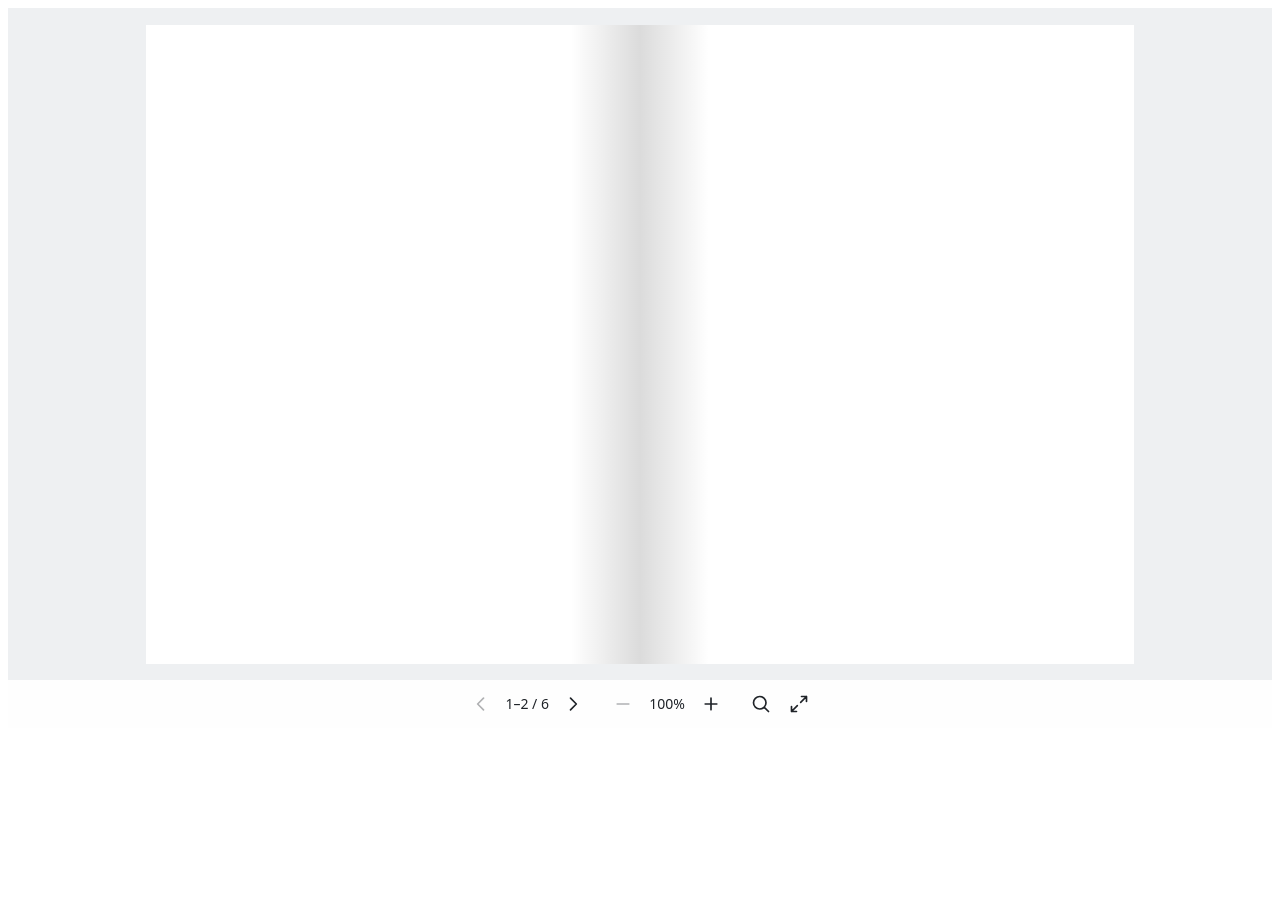
Test: search › matches without regard to case or extra whitespace
Click the button named "Search" at (761, 704), box [743, 686, 779, 722]
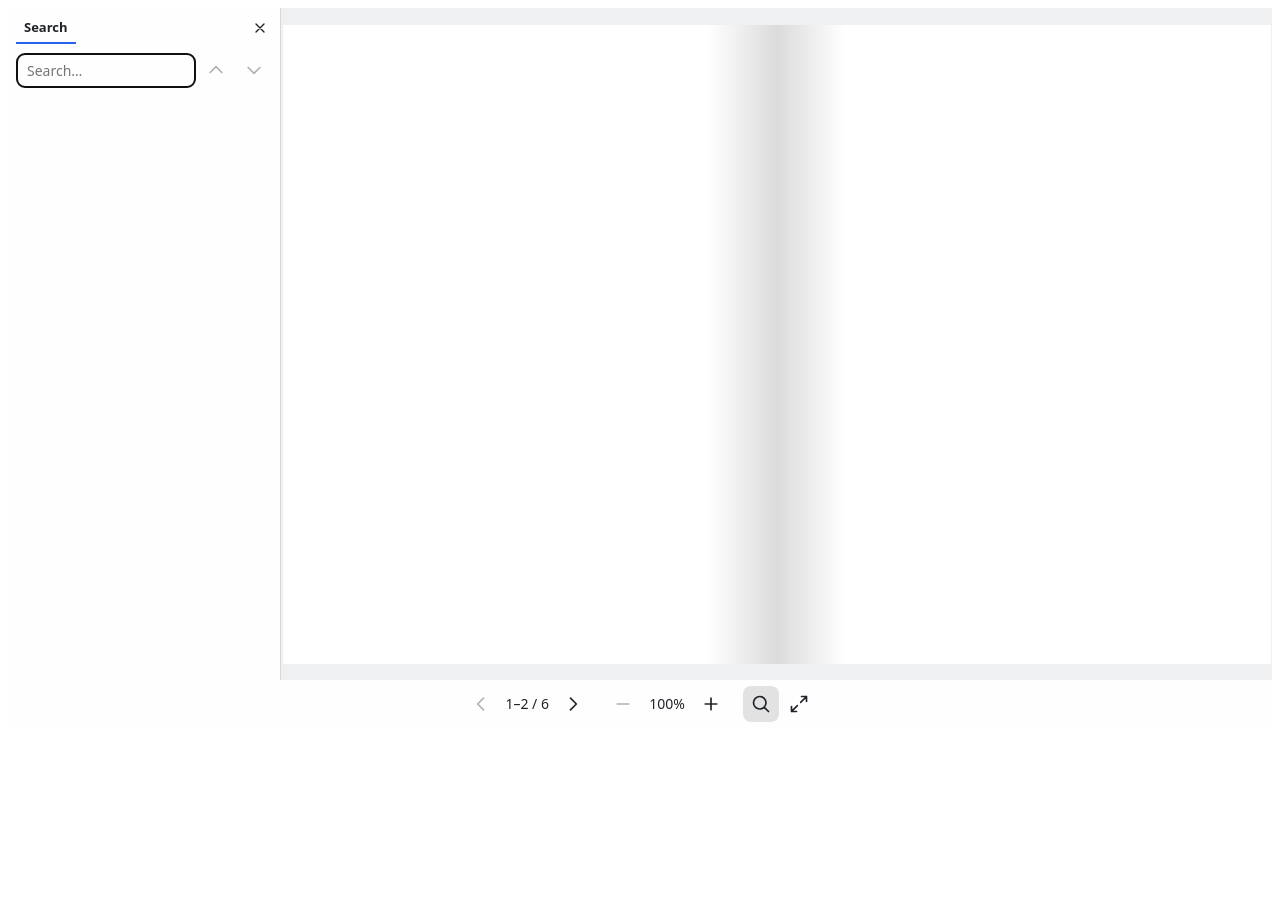
Type "CHAPTER   one" into the search field named "Search the document" at (106, 70), box [16, 52, 196, 88]
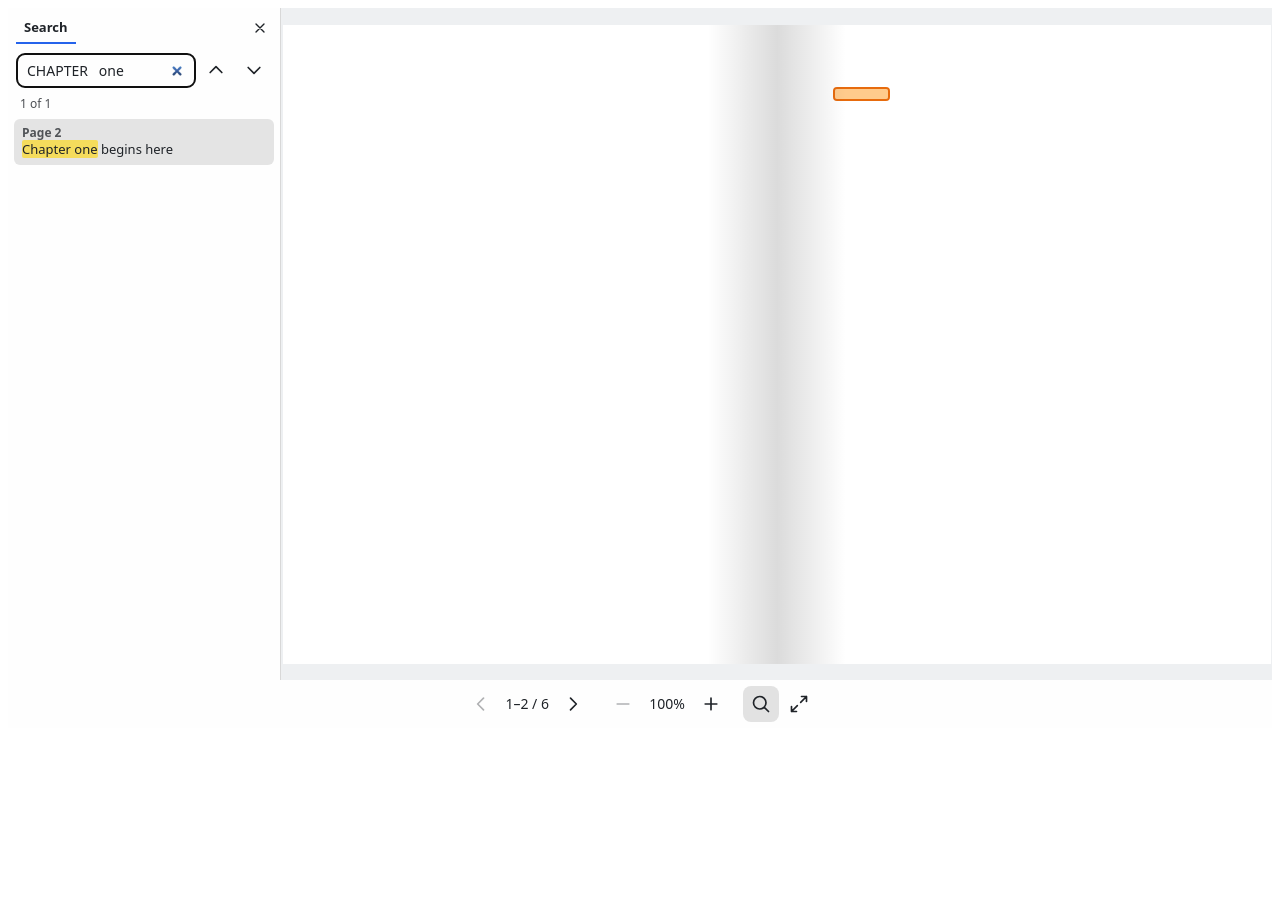
Check: the message reads "1 of 1", box [20, 95, 51, 112]
